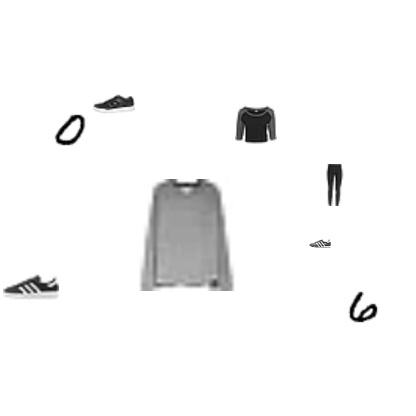0: (49, 109, 91, 151)
6: (341, 289, 383, 331)
Pullover: (129, 179, 241, 291)
Sneaker: (3, 259, 59, 315), (93, 83, 135, 125), (309, 232, 331, 254)
T-shirt/top: (235, 103, 277, 145)
Trouser: (313, 164, 355, 206)
